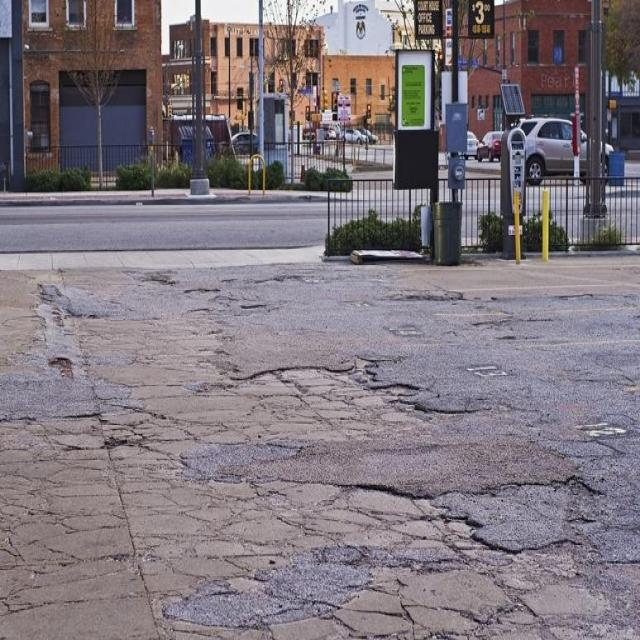pothole: (295, 473, 607, 574), (202, 358, 490, 426), (382, 288, 595, 338), (32, 273, 103, 386), (126, 264, 206, 318), (574, 410, 631, 444)
